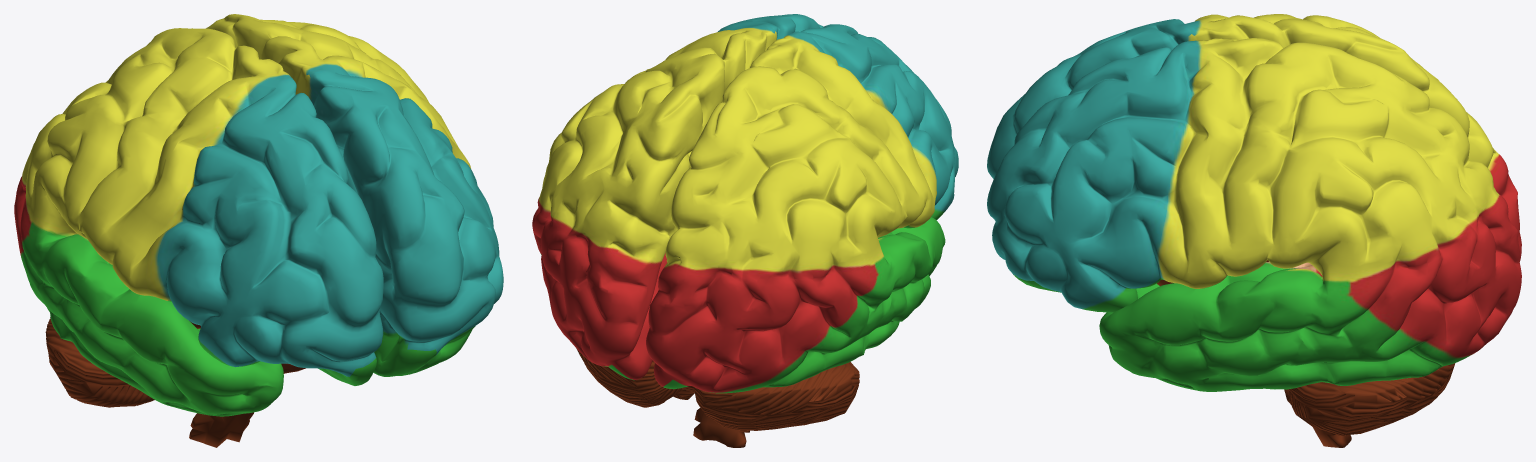
Rendered from brain_final.glb.
The picture shows the model from 3 angles, left to right: view 1: azimuth 30°, elevation 25°; view 2: azimuth 150°, elevation 25°; view 3: azimuth 270°, elevation 25°; orthographic projection. The views are drawn at different scales.
Parts seen in each view (by area): view 1: Brain_Part_06; view 2: Brain_Part_06; view 3: Brain_Part_06.
Boxes of the visible parts, bbox=[...] form: Brain_Part_06: bbox=[14, 14, 503, 447]; Brain_Part_06: bbox=[532, 14, 958, 447]; Brain_Part_06: bbox=[987, 14, 1521, 447].
Bounding box in the file's own units: 1.09 × 1.12 × 1.32.
1 material, 1 textured.
